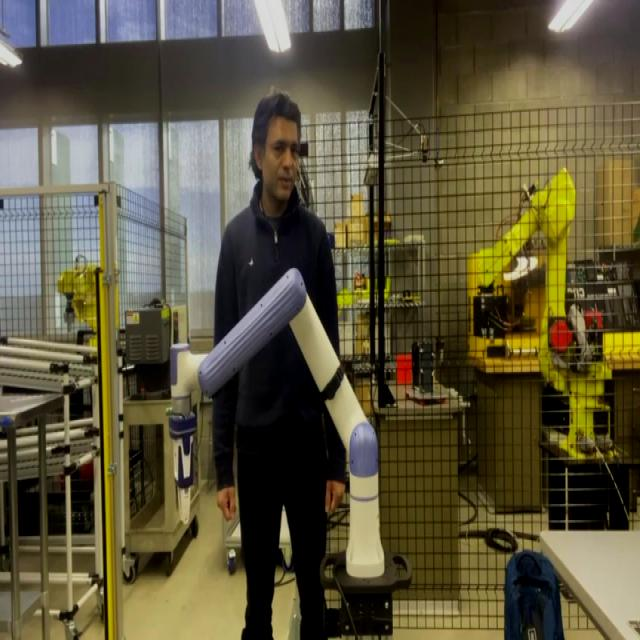robot: (162, 258, 393, 591)
